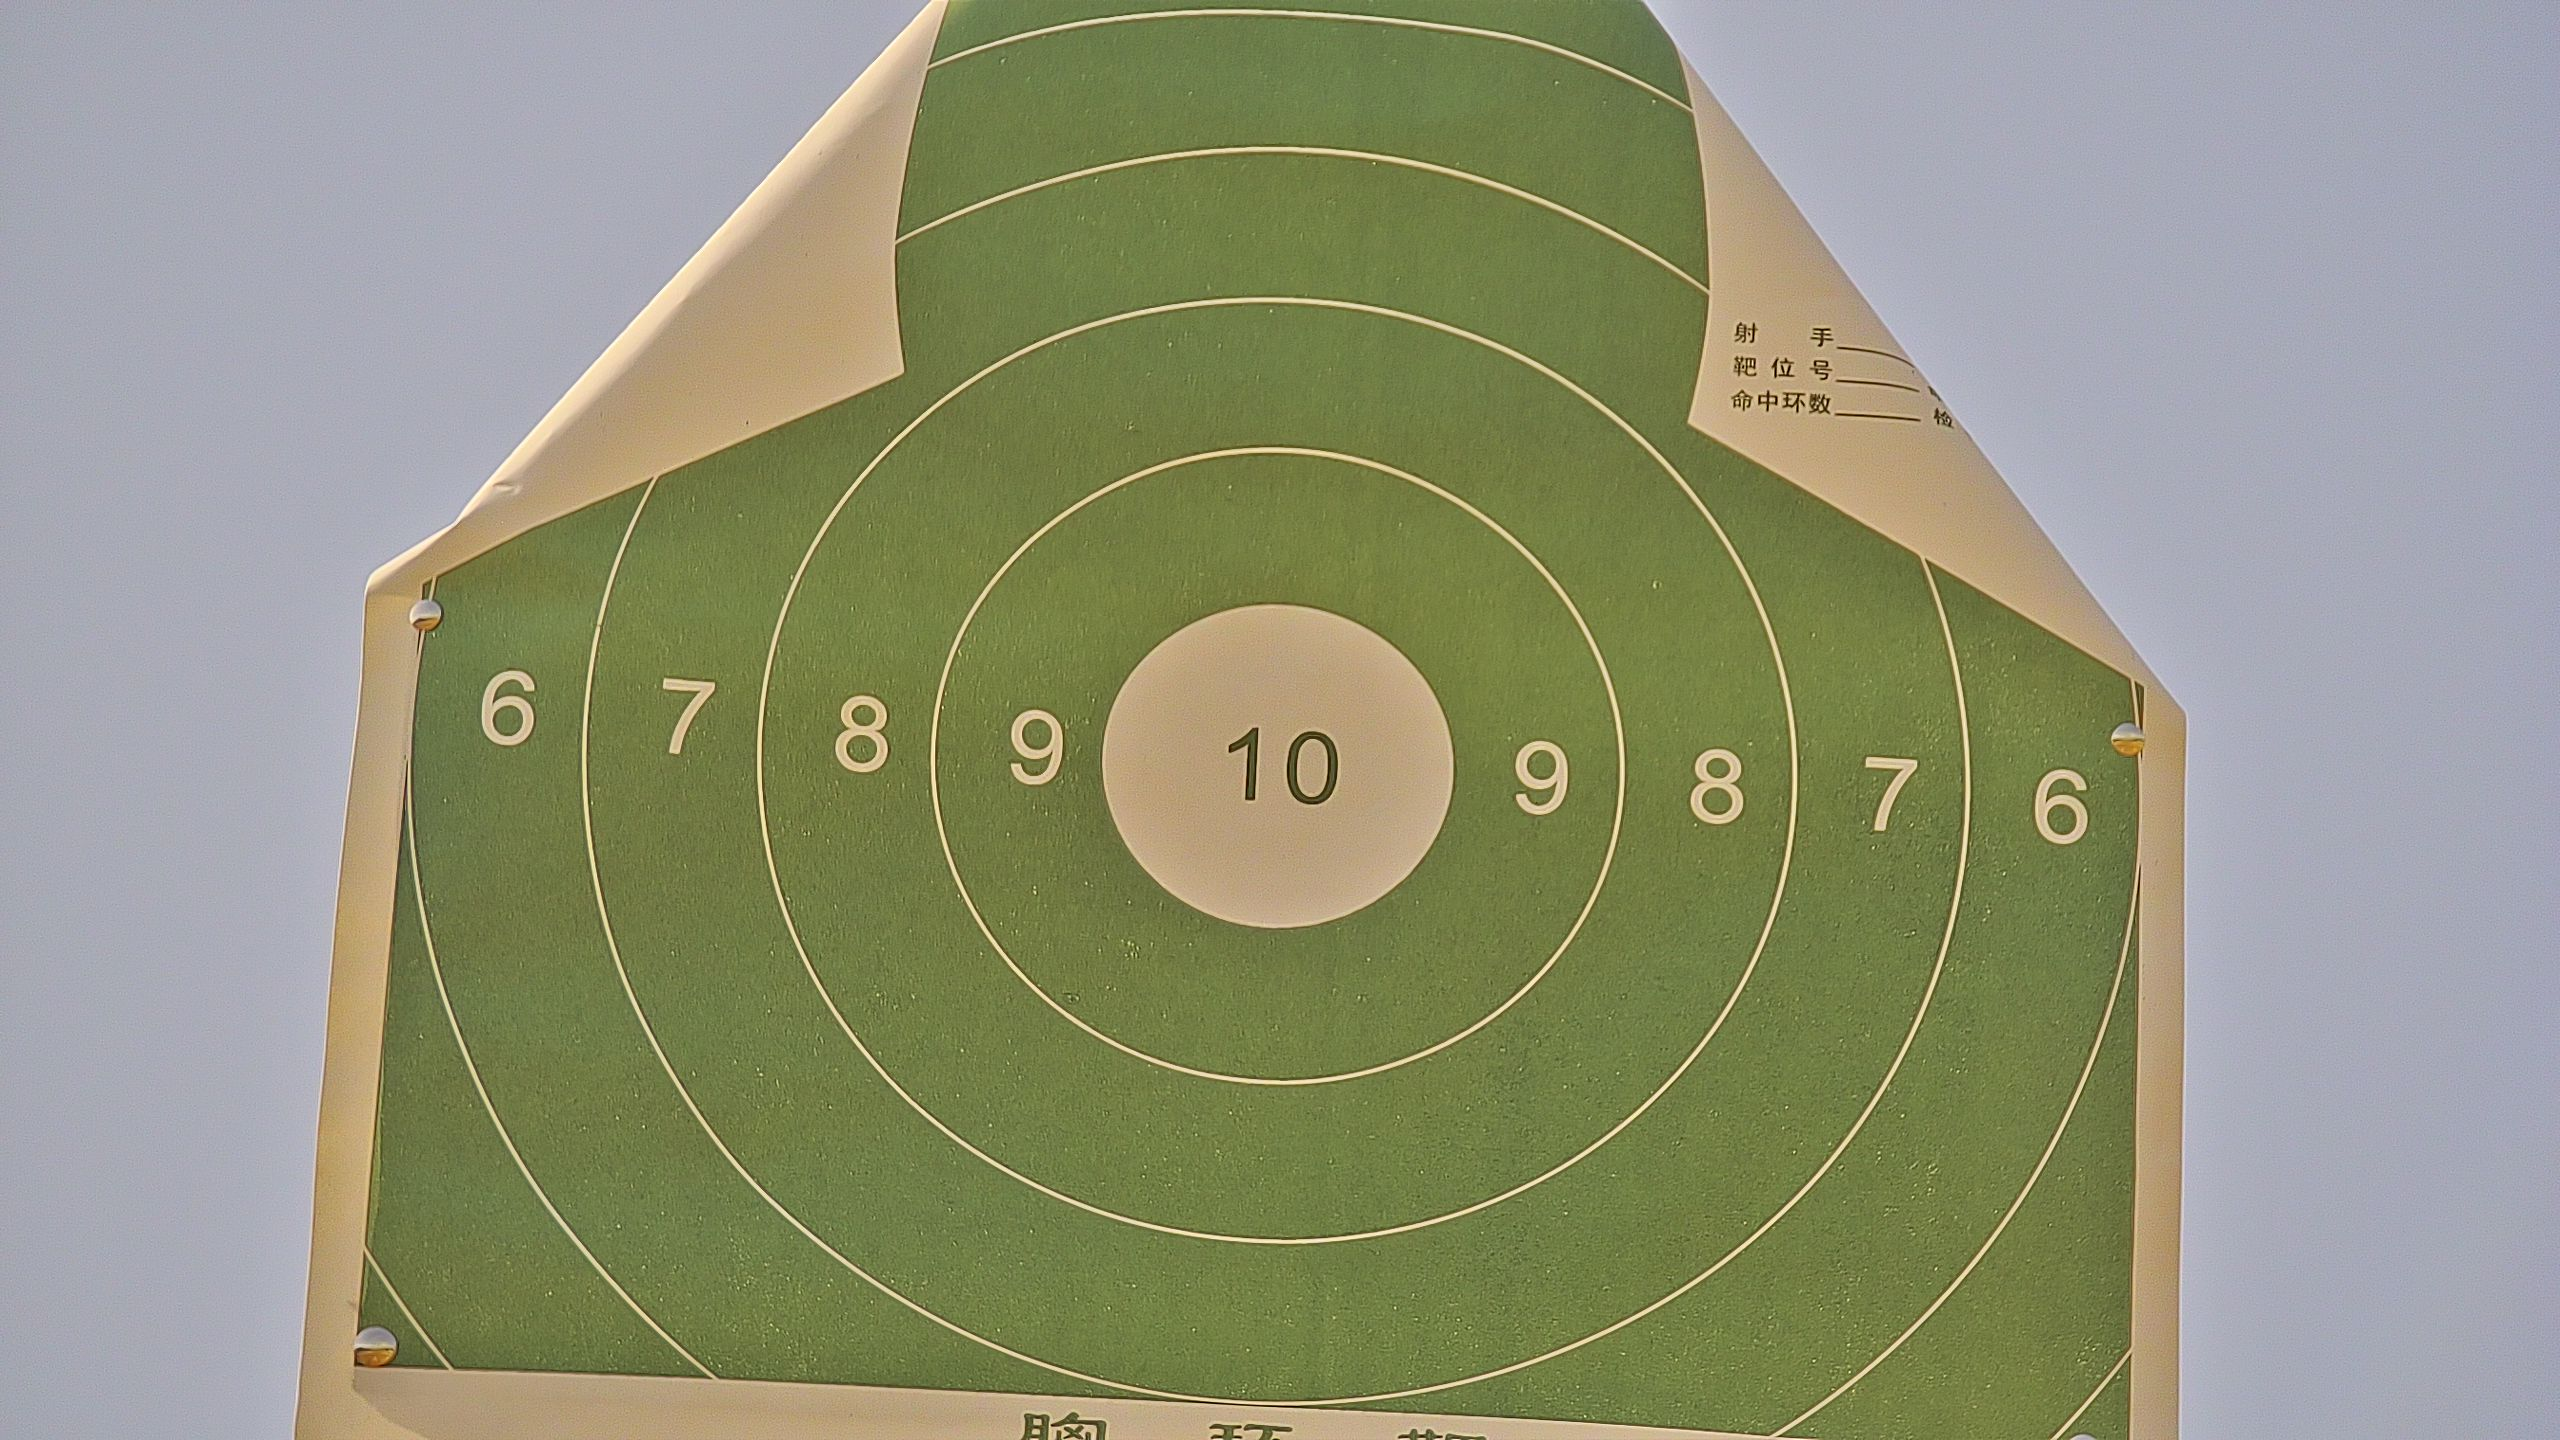kernel: (1266, 767, 1271, 772)
target: (353, 2, 2135, 1440)
ten: (1097, 600, 1459, 934)
